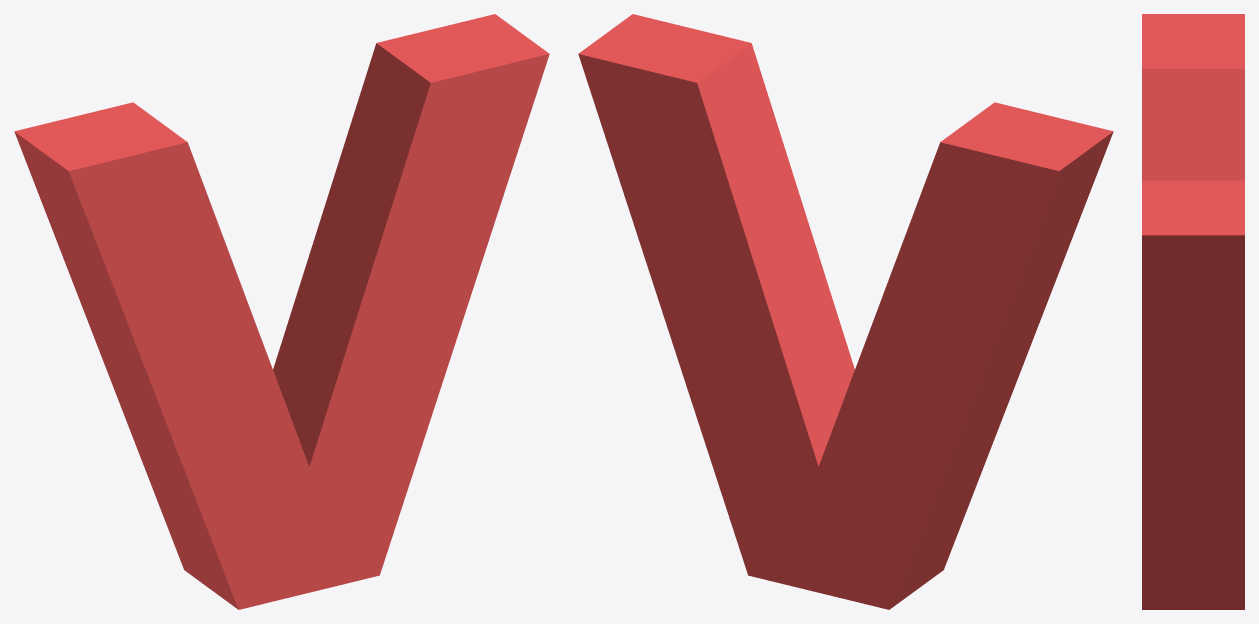
File: huruf_besar_v.glb
3 renders of one model, left to right at view 1: azimuth 30°, elevation 25°; view 2: azimuth 150°, elevation 25°; view 3: azimuth 270°, elevation 25°, orthographic. The views are drawn at different scales.
Parts seen in each view (by area): view 1: geometry_0; view 2: geometry_0; view 3: geometry_0.
Boxes of the visible parts, x1=… form: geometry_0: x1=14, y1=14, x2=549, y2=609; geometry_0: x1=578, y1=14, x2=1113, y2=609; geometry_0: x1=1142, y1=14, x2=1244, y2=609.
Bounding box in the file's own units: 7.64 × 7.29 × 1.5.
